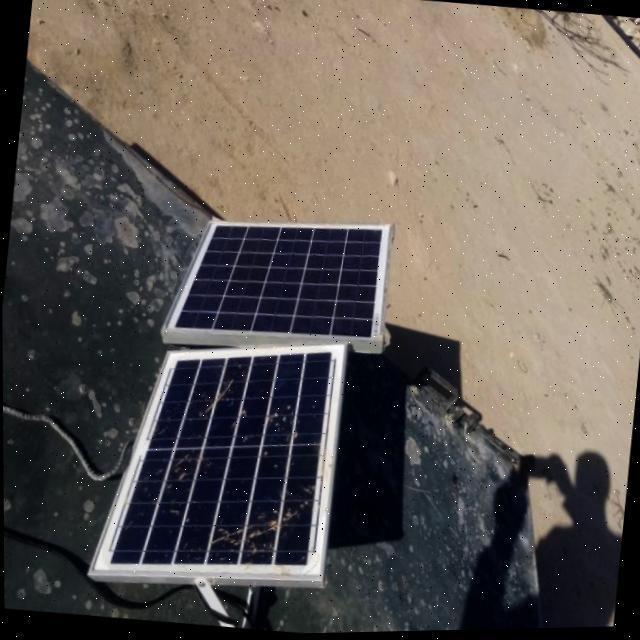Normal Solar Panel: (159, 203, 393, 355)
